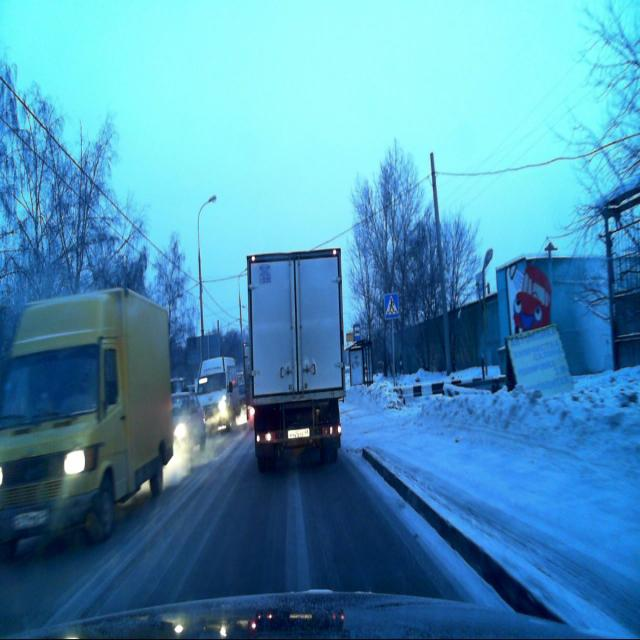object: (391, 324, 396, 387)
road sign: (384, 292, 400, 320), (353, 323, 362, 343)
